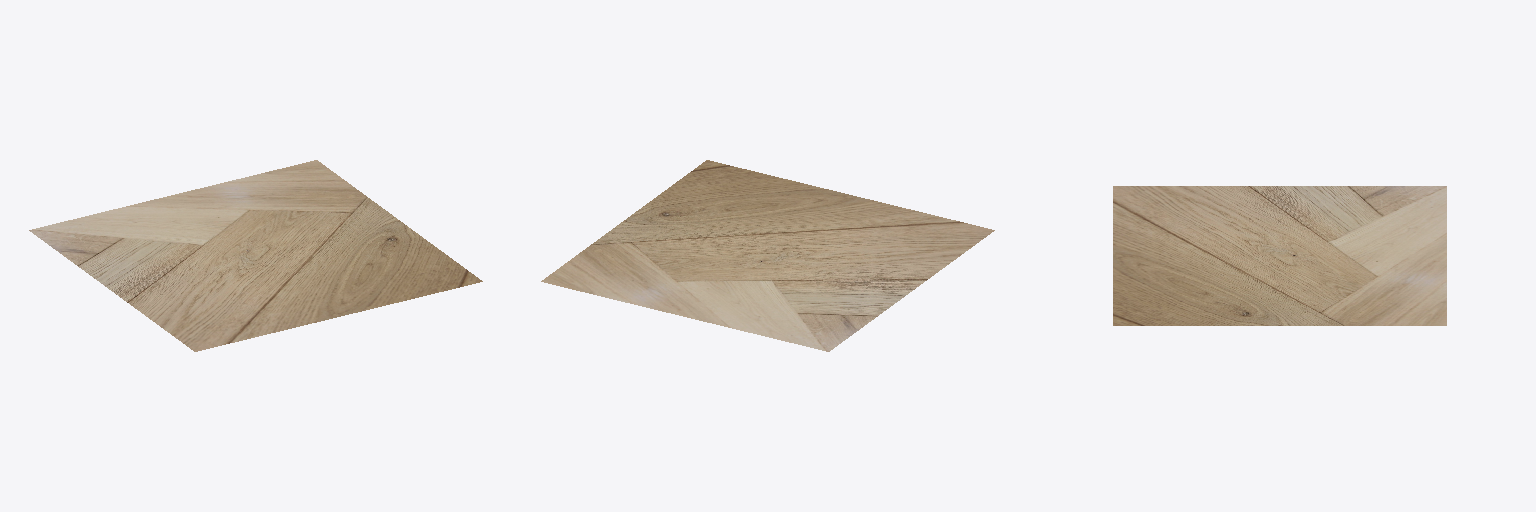
The picture shows the model from 3 angles: view 1: azimuth 30°, elevation 25°; view 2: azimuth 150°, elevation 25°; view 3: azimuth 270°, elevation 25°; orthographic projection.
Visible parts, largest first — view 1: pPlane1; view 2: pPlane1; view 3: pPlane1.
Part boxes in pixels (x1,y1,x2,y2): pPlane1: (29, 160, 482, 351); pPlane1: (541, 160, 994, 351); pPlane1: (1113, 186, 1446, 325).
Bounding box in the file's own units: 256 × 0 × 256.
1 materials, 1 textured.